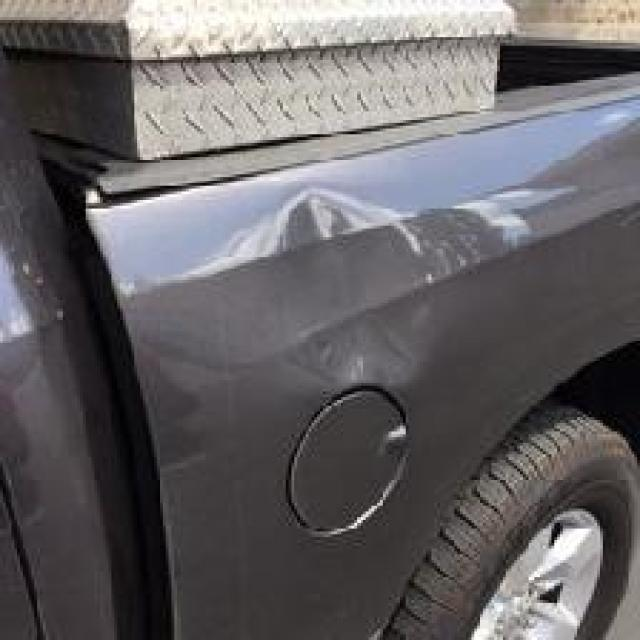door_dent_moderate: (234, 189, 423, 340)
